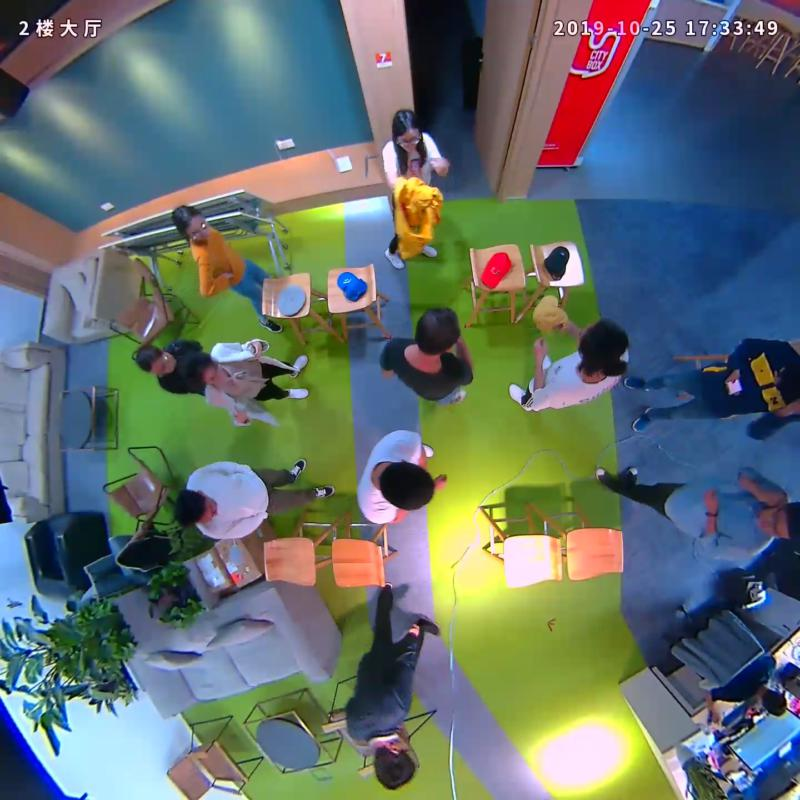head: (380, 460, 435, 512), (576, 318, 629, 368), (415, 307, 460, 355), (754, 501, 800, 544), (373, 743, 416, 789), (173, 489, 217, 526), (178, 352, 225, 385), (171, 205, 209, 242), (392, 109, 422, 151), (134, 344, 175, 373)
